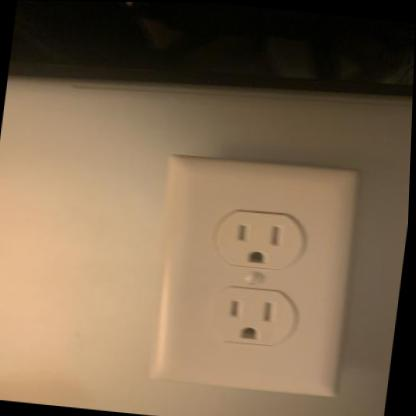OUTLET: (148, 155, 363, 398)
